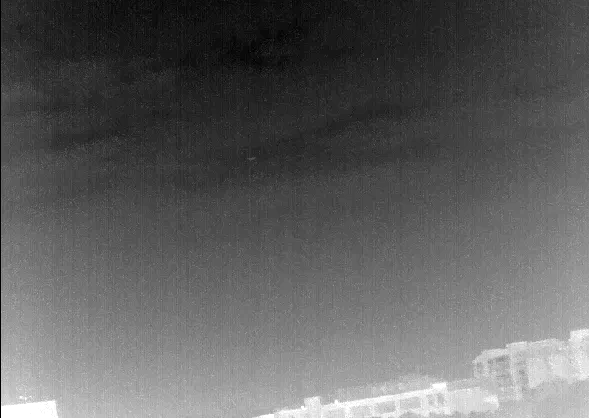dim target: (247, 156, 256, 161)
